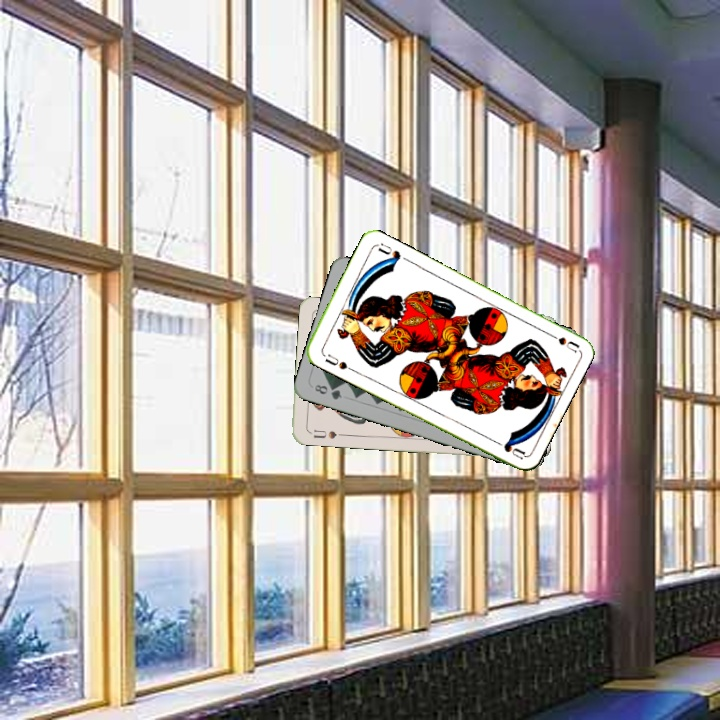G8: (310, 380, 344, 402)
SU: (542, 328, 581, 355), (321, 350, 356, 374), (305, 426, 346, 441)
